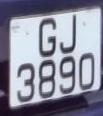0: (77, 47, 97, 95)
3: (14, 56, 39, 107)
8: (36, 57, 60, 100)
9: (57, 52, 78, 96)
G: (37, 16, 58, 60)
J: (56, 13, 79, 57)
